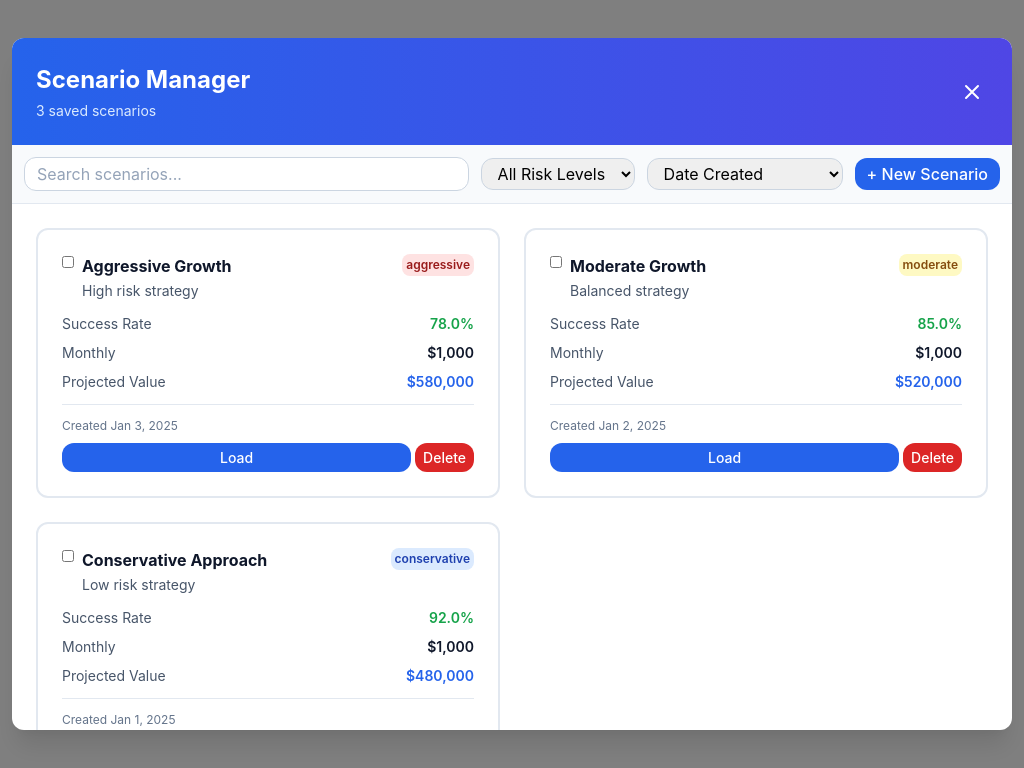
Scenario: ScenarioManager › Search and Filter › should filter scenarios by search query
Expected: the heading "Conservative Approach" is shown, [82,550,267,570]
Type "conservative" into the field with placeholder "Search scenarios..." at (246, 174), box [24,157,469,191]
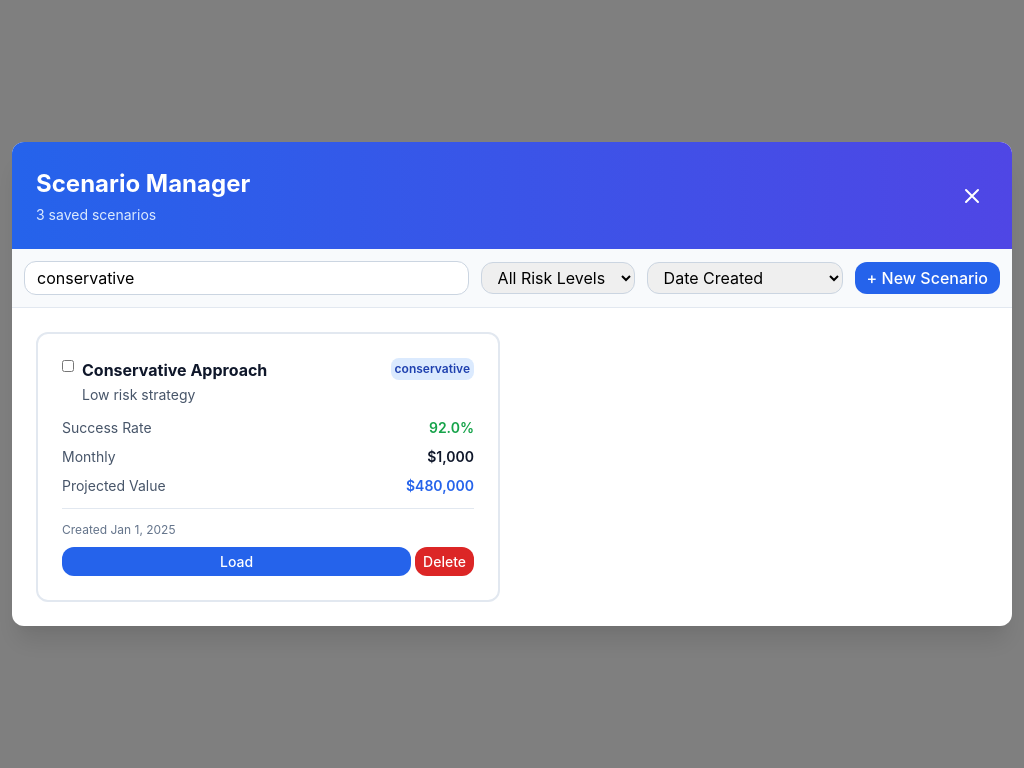
Expected: the heading "Conservative Approach" is shown, [82,360,267,380]
Now the heading "Moderate Growth" is gone
